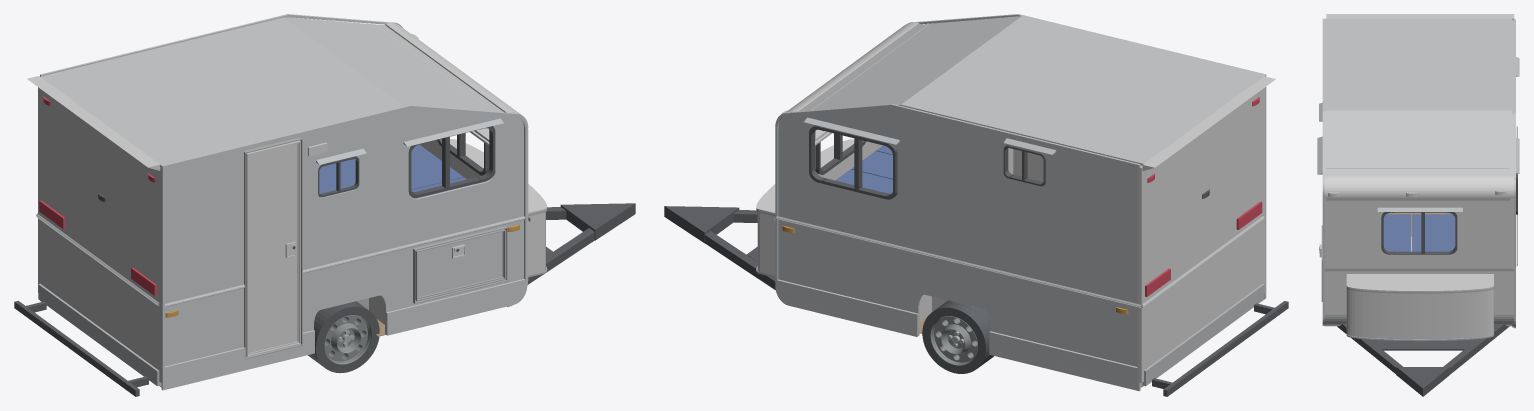
Rendered from Vista externa do reboque de 3,5 m.glb.
3 renders of one model, left to right at view 1: azimuth 30°, elevation 25°; view 2: azimuth 150°, elevation 25°; view 3: azimuth 270°, elevation 25°, orthographic. The views are drawn at different scales.
Parts seen in each view (by area): view 1: Mesh_Mesh_head_geo.001_lambert2SG.001; view 2: Mesh_Mesh_head_geo.001_lambert2SG.001; view 3: Mesh_Mesh_head_geo.001_lambert2SG.001.
Boxes of the visible parts, x1,y1,x2,y2 form: Mesh_Mesh_head_geo.001_lambert2SG.001: (14,14,635,396); Mesh_Mesh_head_geo.001_lambert2SG.001: (664,14,1288,396); Mesh_Mesh_head_geo.001_lambert2SG.001: (1317,14,1519,396).
Size of the model in its own units: 0.273 by 0.118 by 0.11.
